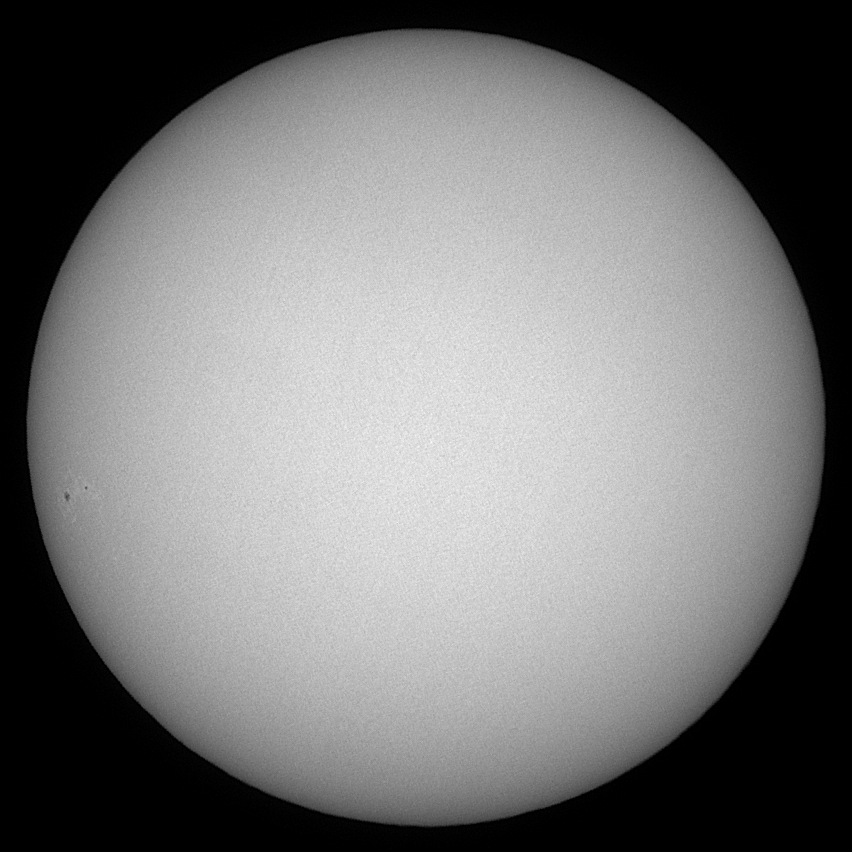sunspot: (59, 482, 94, 502)
